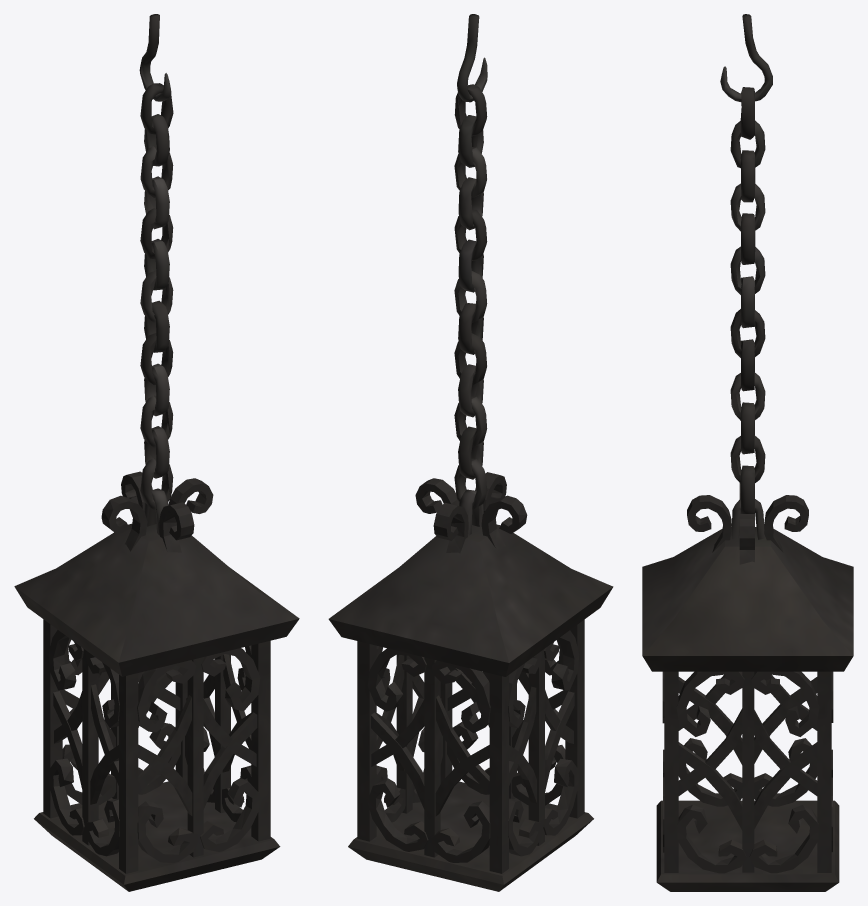
Rendered from Latern_01.fbx.
3 renders of one model, left to right at view 1: azimuth 30°, elevation 25°; view 2: azimuth 150°, elevation 25°; view 3: azimuth 270°, elevation 25°, orthographic.
Parts seen in each view (by area): view 1: Latern_01, Chain_01, Hook_01; view 2: Latern_01, Chain_01, Hook_01; view 3: Latern_01, Chain_01, Hook_01.
Part boxes in pixels (x1,y1,x2,y2): Latern_01: [14, 471, 299, 891]; Chain_01: [140, 83, 173, 509]; Hook_01: [139, 14, 171, 101]; Latern_01: [328, 472, 613, 891]; Chain_01: [454, 84, 487, 509]; Hook_01: [457, 14, 487, 102]; Latern_01: [642, 483, 853, 891]; Chain_01: [730, 87, 765, 513]; Hook_01: [720, 14, 772, 102].
Size of what is drawn, in the model's own units: 28.89 by 127 by 28.89.
